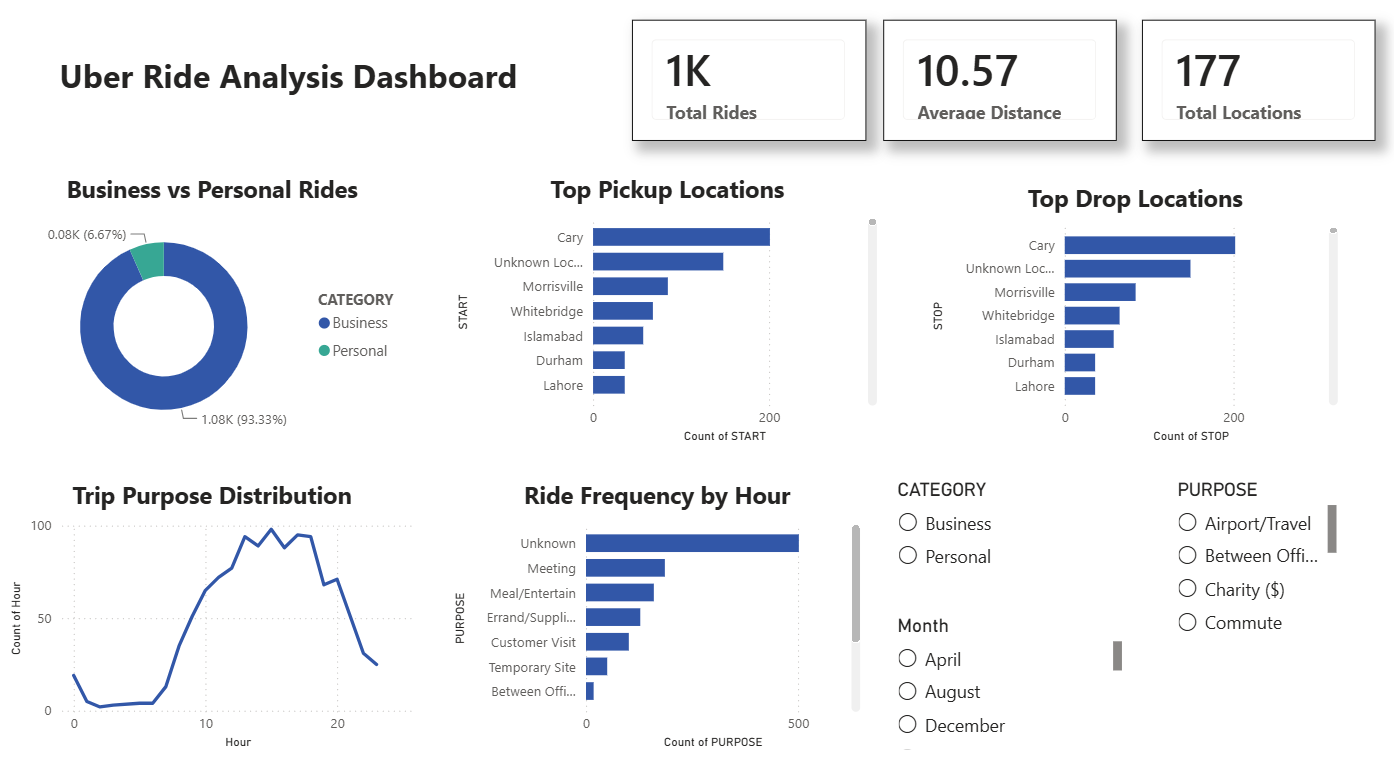

The dashboard page shown, as its layout file describes it:
{"tool":"powerbi","page":{"name":"Page 1","canvas":[1280,720],"ordinal":0},"visuals":[{"type":"cardVisual","fields":{"Data":["uber_cleaned.Total Rides"]},"box":[579.1,25.6,211.6,109.3],"z":0},{"type":"cardVisual","fields":{"Data":["uber_cleaned.Average Distance"]},"box":[805.8,25.6,211,109.3],"z":1000},{"type":"cardVisual","fields":{"Data":["uber_cleaned.Total Locations"]},"box":[1040.7,25.6,211,109.3],"z":2000},{"type":"donutChart","title":"Business vs Personal Rides","fields":{"Category":["uber_cleaned.CATEGORY"],"Y":["CountNonNull(uber_cleaned.CATEGORY)"]},"box":[11.6,164,375.6,250],"z":3000},{"type":"clusteredBarChart","title":"Top Pickup Locations","fields":{"Category":["uber_cleaned.START"],"Y":["CountNonNull(uber_cleaned.START)"]},"box":[416.3,164,389.5,250],"z":4000},{"type":"clusteredBarChart","title":"Top Drop Locations","fields":{"Category":["uber_cleaned.STOP"],"Y":["CountNonNull(uber_cleaned.STOP)"]},"box":[845.4,172.1,376.7,241.9],"z":5000},{"type":"lineChart","title":"Trip Purpose Distribution","fields":{"Category":["uber_cleaned.Hour"],"Y":["CountNonNull(uber_cleaned.Hour)"]},"box":[11.6,440.7,375.6,250],"z":6000},{"type":"clusteredBarChart","title":"Ride Frequency by Hour","fields":{"Category":["uber_cleaned.PURPOSE"],"Y":["CountNonNull(uber_cleaned.PURPOSE)"]},"box":[412.8,440.7,377.9,250],"z":7000},{"type":"listSlicer","fields":{"Values":["uber_cleaned.CATEGORY"]},"box":[814,440.7,214,97.7],"z":8000},{"type":"listSlicer","fields":{"Values":["uber_cleaned.Month"]},"box":[814,564,214,126.7],"z":9000},{"type":"listSlicer","fields":{"Values":["uber_cleaned.PURPOSE"]},"box":[1067.4,440.7,154.7,150],"z":10000},{"type":"textbox","title":"Uber Ride Analysis Dashboard","box":[11.6,55.8,514,79.1],"z":11000}]}

Visuals, with their boxes in screenshot pixels (x1, y1, x2, y2), scaled from the page's 1280x720 canvas onto the 1394x782 screenshot:
cardVisual - uber_cleaned.Total Rides: (631,28,861,147)
cardVisual - uber_cleaned.Average Distance: (878,28,1107,147)
cardVisual - uber_cleaned.Total Locations: (1133,28,1363,147)
"Business vs Personal Rides" donutChart: (13,178,422,450)
"Top Pickup Locations" clusteredBarChart: (453,178,878,450)
"Top Drop Locations" clusteredBarChart: (921,187,1331,450)
"Trip Purpose Distribution" lineChart: (13,479,422,750)
"Ride Frequency by Hour" clusteredBarChart: (450,479,861,750)
listSlicer - uber_cleaned.CATEGORY: (886,479,1120,585)
listSlicer - uber_cleaned.Month: (886,613,1120,750)
listSlicer - uber_cleaned.PURPOSE: (1162,479,1331,642)
"Uber Ride Analysis Dashboard" textbox: (13,61,572,147)
